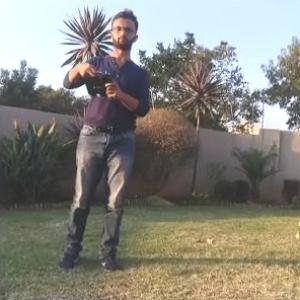follow: (52, 3, 152, 275)
